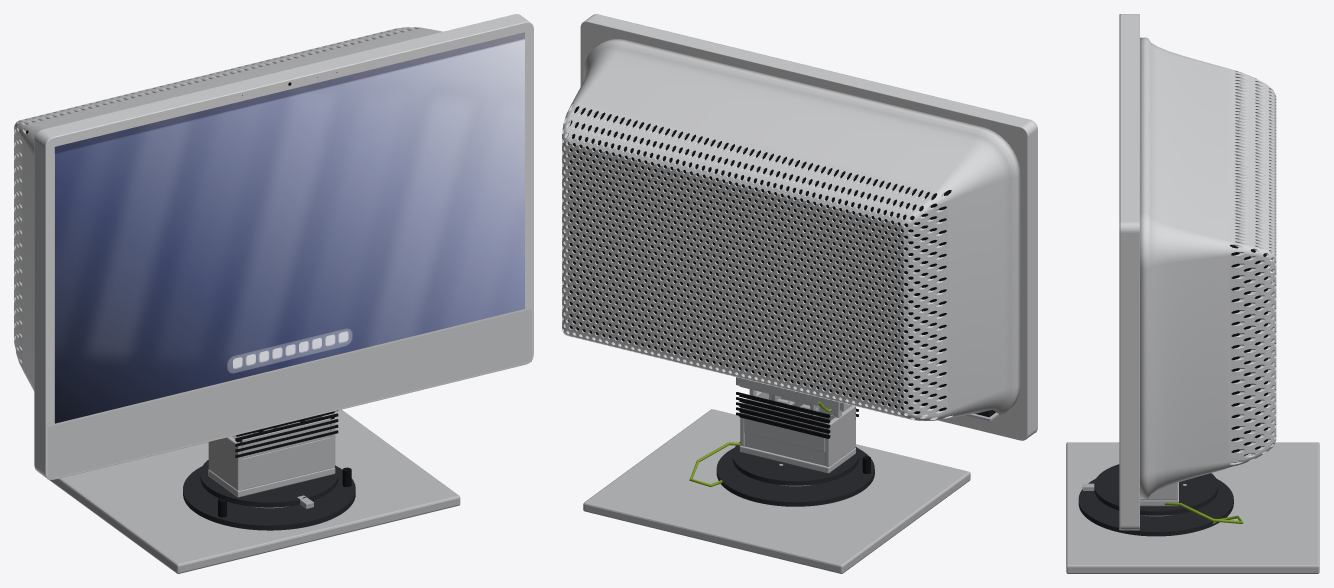
File: imac_pc.v013__2026-11-06_88f99b7.glb
3 renders of one model, left to right at view 1: azimuth 30°, elevation 25°; view 2: azimuth 150°, elevation 25°; view 3: azimuth 270°, elevation 25°, orthographic. The views are drawn at different scales.
Visible parts, largest first — view 1: display, chin_print, stand_foot, front_glass, cover_back, slab, stand_swivel_stator, stand_neck_cover1, stand_swivel_rotor, stand_arm0, stand_neck_tab, stand_neck_base; view 2: cover_back, stand_foot, cover_filter, slab, stand_swivel_stator, stand_swivel_rotor, stand_neck_tie, stand_arm0, stand_neck_cover0, hinge_cover, stand_neck_base, front_glass; view 3: cover_back, stand_foot, slab, stand_swivel_stator, stand_swivel_rotor, cover_filter, front_glass, stand_arm1, pe_braid_swivel.
Boxes of the visible parts, x1,y1,x2,y2 form: display: (54, 32, 524, 423); chin_print: (47, 309, 531, 479); stand_foot: (38, 409, 460, 573); front_glass: (45, 22, 533, 479); cover_back: (14, 27, 442, 391); slab: (34, 14, 529, 477); stand_swivel_stator: (183, 466, 355, 530); stand_neck_cover1: (239, 437, 333, 490); stand_swivel_rotor: (200, 460, 338, 507); stand_arm0: (208, 436, 242, 490); stand_neck_tab: (240, 418, 330, 458); stand_neck_base: (208, 467, 335, 497); cover_back: (562, 39, 1020, 420); stand_foot: (583, 409, 970, 573); cover_filter: (568, 106, 951, 413); slab: (580, 14, 1037, 440); stand_swivel_stator: (716, 448, 874, 506); stand_swivel_rotor: (732, 442, 858, 485); stand_neck_tie: (744, 403, 826, 452); stand_arm0: (825, 405, 855, 466); stand_neck_cover0: (744, 433, 825, 465); hinge_cover: (739, 378, 839, 410); stand_neck_base: (739, 445, 855, 473); front_glass: (595, 14, 1037, 431); cover_back: (1140, 37, 1276, 499); stand_foot: (1066, 442, 1319, 573); slab: (1120, 14, 1139, 530); stand_swivel_stator: (1078, 478, 1233, 536); stand_swivel_rotor: (1094, 464, 1218, 515); cover_filter: (1230, 245, 1268, 455); front_glass: (1119, 14, 1120, 529); stand_arm1: (1140, 482, 1178, 500); pe_braid_swivel: (1164, 502, 1243, 523).
Bounding box in the file's own units: 620 × 535 × 310.
Materials: 65 (4 with a texture image).
